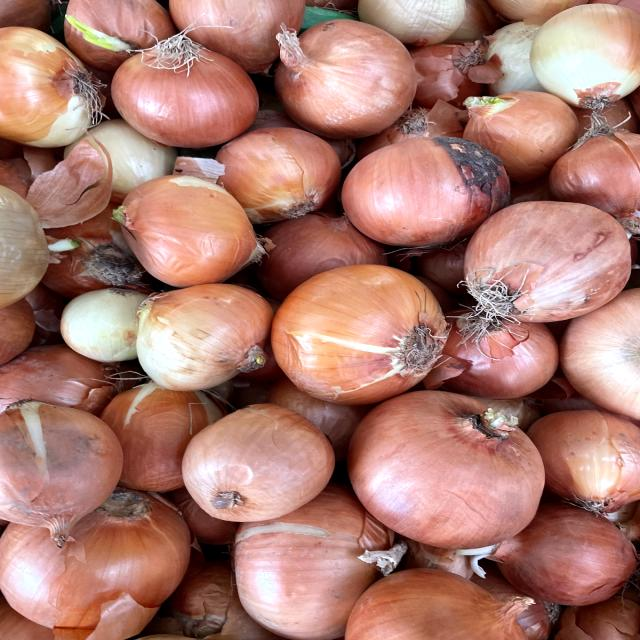onion: (349, 380, 559, 556), (266, 257, 454, 402), (453, 194, 640, 329), (167, 394, 344, 525), (255, 16, 436, 141), (106, 24, 270, 149), (107, 171, 272, 291)
